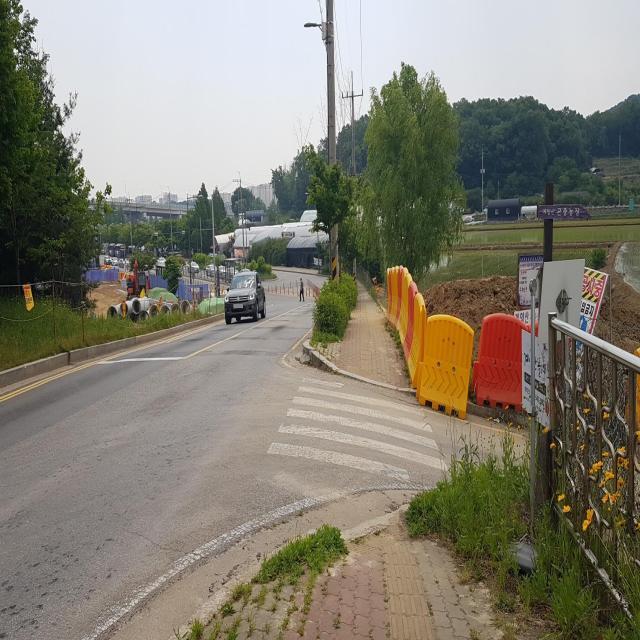횡단보도: (266, 376, 450, 484)
